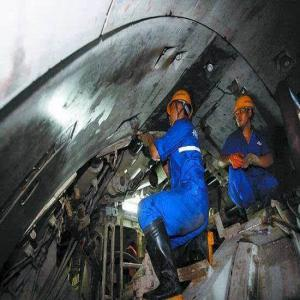yellow: (168, 89, 193, 128), (235, 97, 256, 130)
